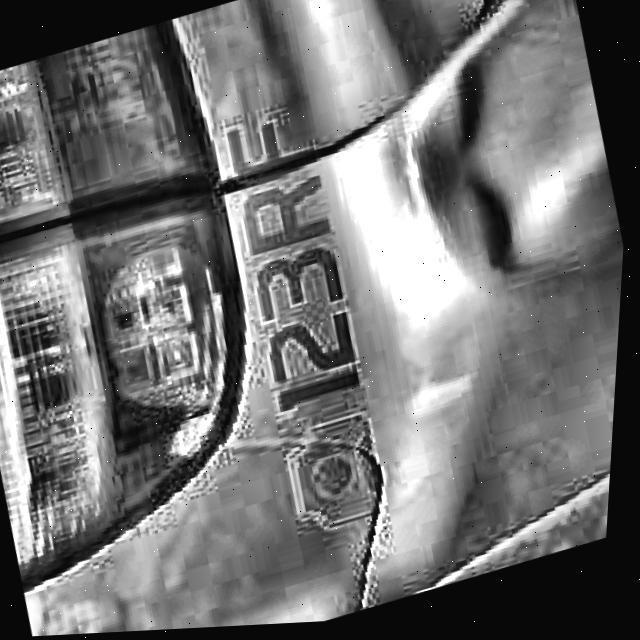bumper_dent: (399, 32, 632, 296)
tail_lamp: (86, 232, 271, 475)
